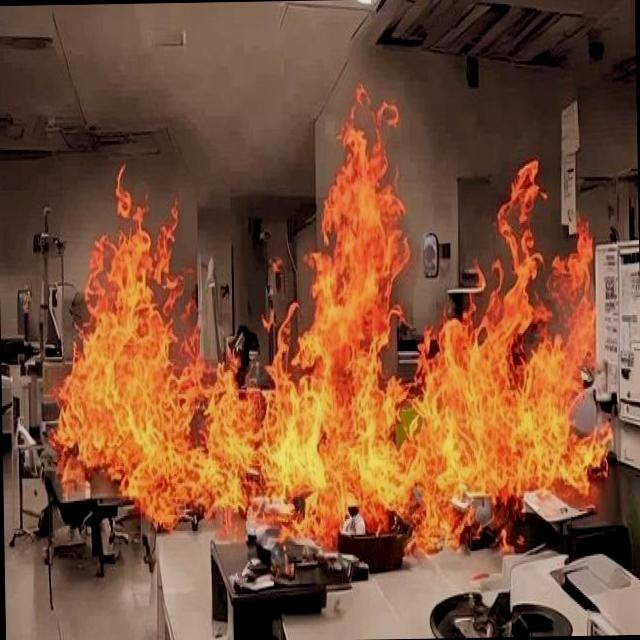fire: (33, 117, 616, 539)
